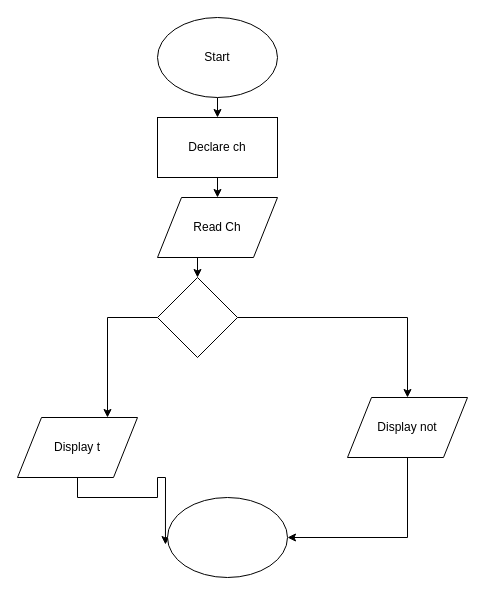
Image size: 485x595. Some labels were removed from this diagram. The centre of each missing label's shape, as x and y in pixels:
"if ch ==t" belongs at pixel 197 317.
"stop" belongs at pixel 227 537.
